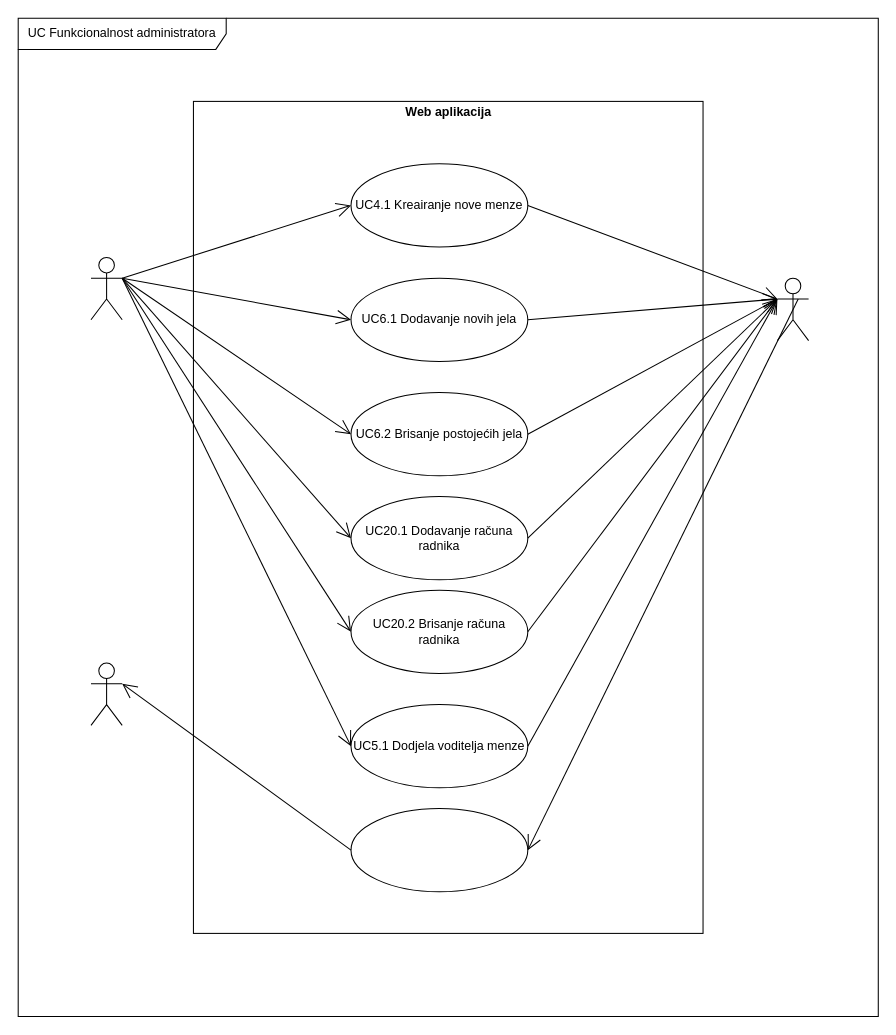
Image size: 896x1035. Some labels were removed from this diagram. Here are the shapes that lost their labels. From the top down, the centre of each, then its label:
At [106,288]: "Administrator".
At [792,309]: "Baza podataka".
At [106,693]: "Voditelj menze".
At [439,850]: "UC5.2 Dodjela ovlasti voditelju menze".
